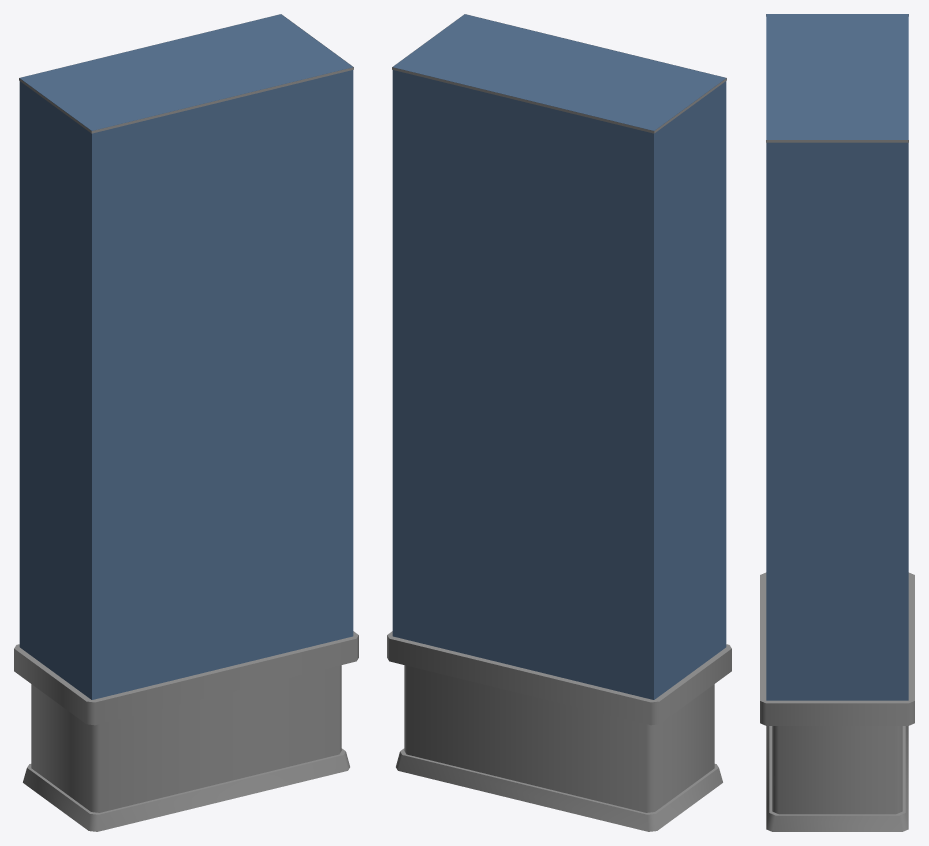
File: ExStand_2.FBX
3 views of the same model, side by side, from view 1: azimuth 30°, elevation 25°; view 2: azimuth 150°, elevation 25°; view 3: azimuth 270°, elevation 25° (orthographic).
Parts seen in each view (by area): view 1: Glass, ExStand, ExStand_Glass; view 2: Glass, ExStand, ExStand_Glass; view 3: Glass, ExStand, ExStand_Glass.
Part boxes in pixels (x1=…): Glass: x1=19, y1=14, x2=353, y2=699; ExStand: x1=14, y1=631, x2=358, y2=831; ExStand_Glass: x1=19, y1=14, x2=353, y2=133; Glass: x1=392, y1=14, x2=726, y2=699; ExStand: x1=387, y1=631, x2=731, y2=831; ExStand_Glass: x1=392, y1=14, x2=726, y2=133; Glass: x1=766, y1=14, x2=908, y2=700; ExStand: x1=760, y1=572, x2=914, y2=831; ExStand_Glass: x1=766, y1=14, x2=908, y2=142.
Size of the model in its own units: 100 by 50 by 246.
